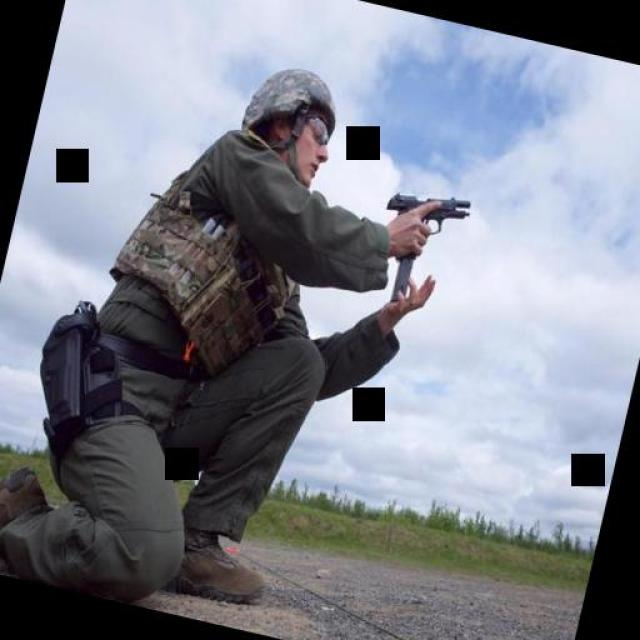gun: (381, 179, 479, 239)
